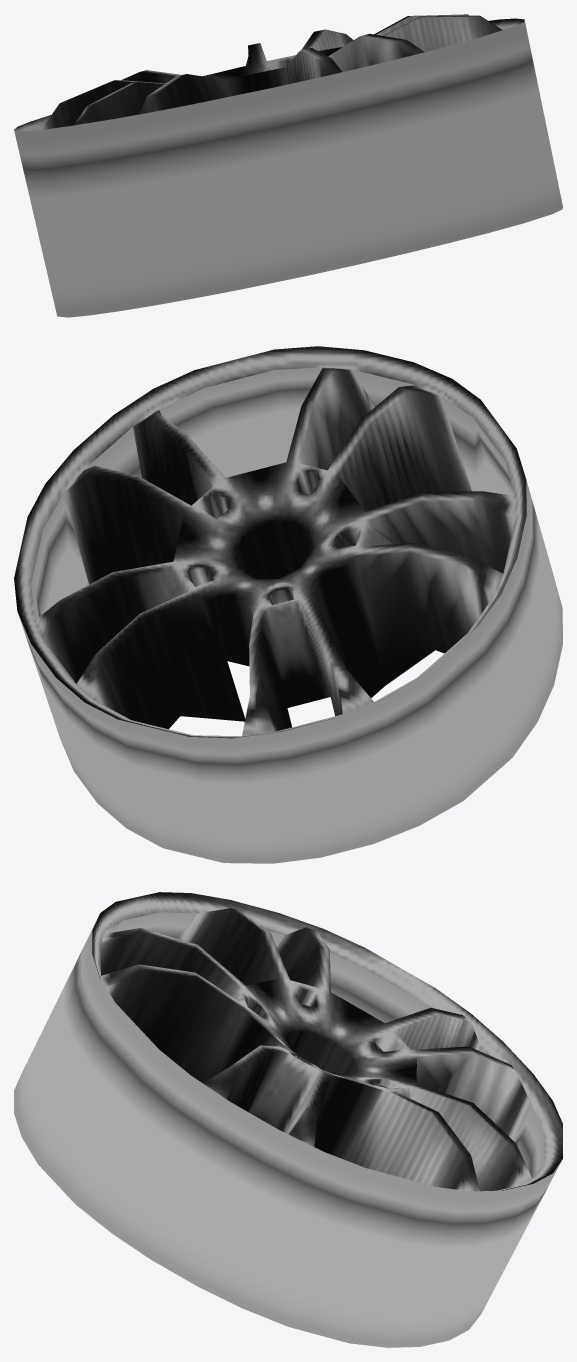
Rendered from drift.ico.obj.
The picture shows the model from 3 angles, top to bottom: view 1: azimuth 30°, elevation 25°; view 2: azimuth 150°, elevation 25°; view 3: azimuth 270°, elevation 25°; orthographic projection.
Bounding box in the file's own units: 4.46 × 3.33 × 4.66.
1 material, 1 textured.
